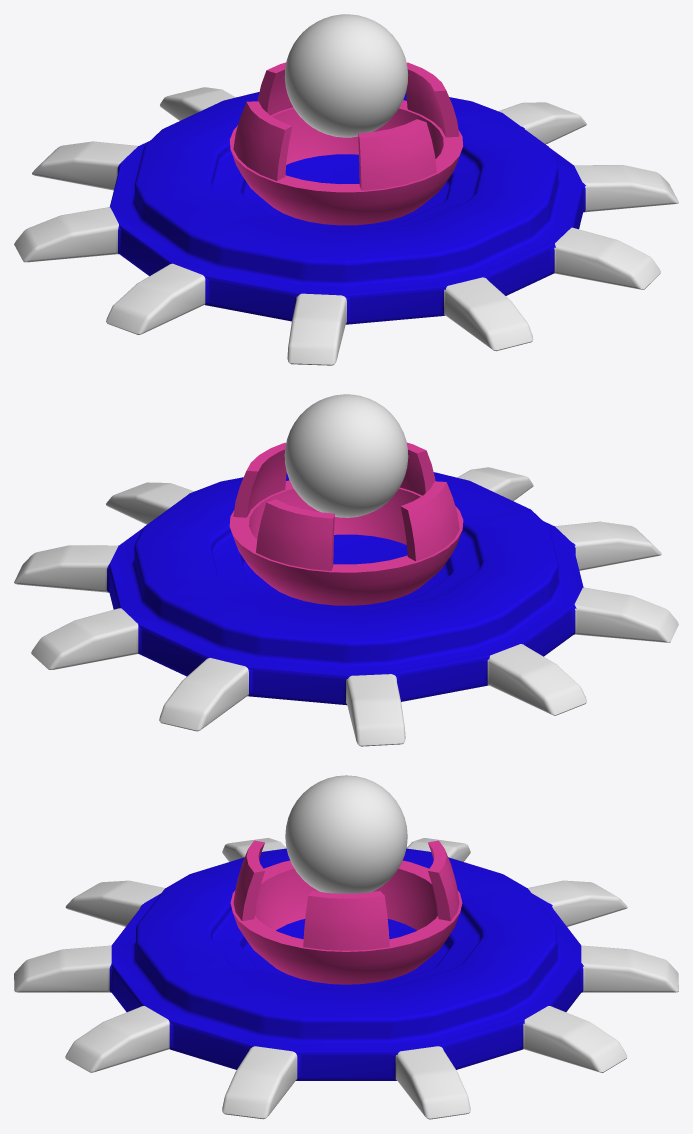
The model's file is WALLLIGHT.fbx.
The picture shows the model from 3 angles, top to bottom: view 1: azimuth 30°, elevation 25°; view 2: azimuth 150°, elevation 25°; view 3: azimuth 270°, elevation 25°; orthographic projection.
Parts seen in each view (by area): view 1: Cylinder, Circle.002, Icosphere.001; view 2: Cylinder, Circle.002, Icosphere.001; view 3: Cylinder, Circle.002, Icosphere.001.
Boxes of the visible parts, x1,y1,x2,y2 form: Cylinder: (14,87,678,365); Circle.002: (229,62,463,225); Icosphere.001: (284,14,408,137); Cylinder: (14,467,678,746); Circle.002: (229,442,463,605); Icosphere.001: (284,394,408,517); Cylinder: (14,838,678,1119); Circle.002: (230,840,462,984); Icosphere.001: (285,775,407,893).
Size of the model in its own units: 266 by 92.09 by 274.
